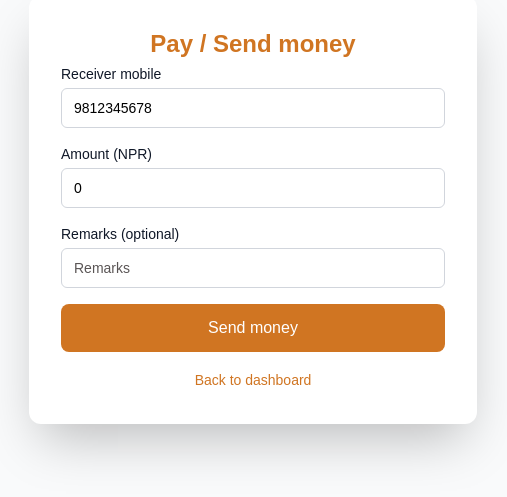
Test: PayPage › shows amount validation
Click the button "Send money" at (253, 328), box [61, 304, 445, 352]
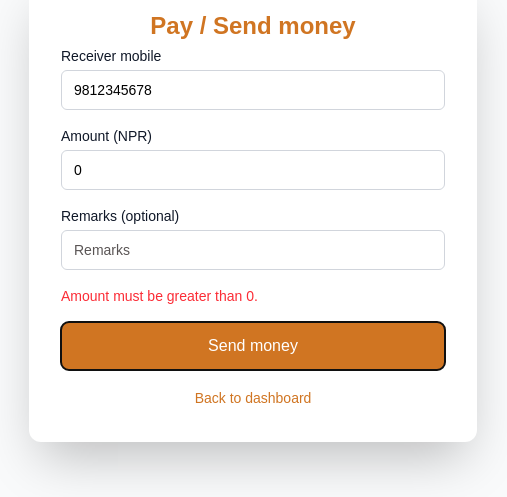
Expected: the text "Amount must be greater than 0." is shown, [61, 288, 258, 304]
